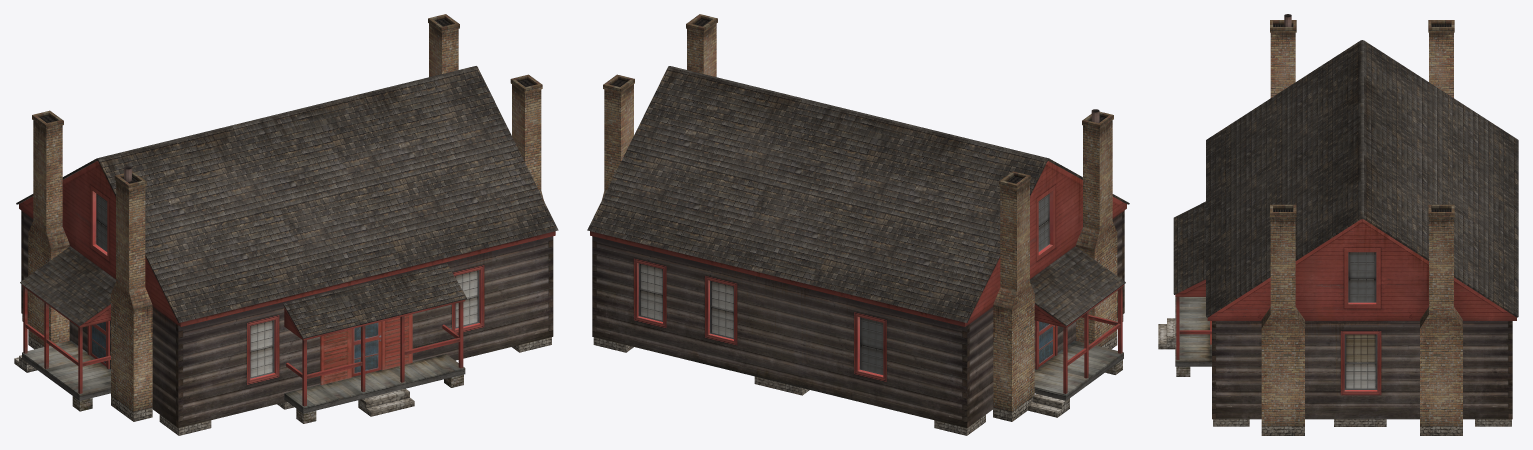
Rendered from wooden_house_building.glb.
3 views of the same model, side by side, from view 1: azimuth 30°, elevation 25°; view 2: azimuth 150°, elevation 25°; view 3: azimuth 270°, elevation 25° (orthographic). The views are drawn at different scales.
Visible parts, largest first — view 1: House020_House20_0; view 2: House020_House20_0; view 3: House020_House20_0.
Part boxes in pixels (box(x1,y1,x2,y2)): House020_House20_0: box(14, 14, 558, 435); House020_House20_0: box(587, 14, 1129, 435); House020_House20_0: box(1158, 14, 1518, 435).
Size of the model in its own units: 13.3 by 6.92 by 9.76.
Materials: 1 (1 with a texture image).
